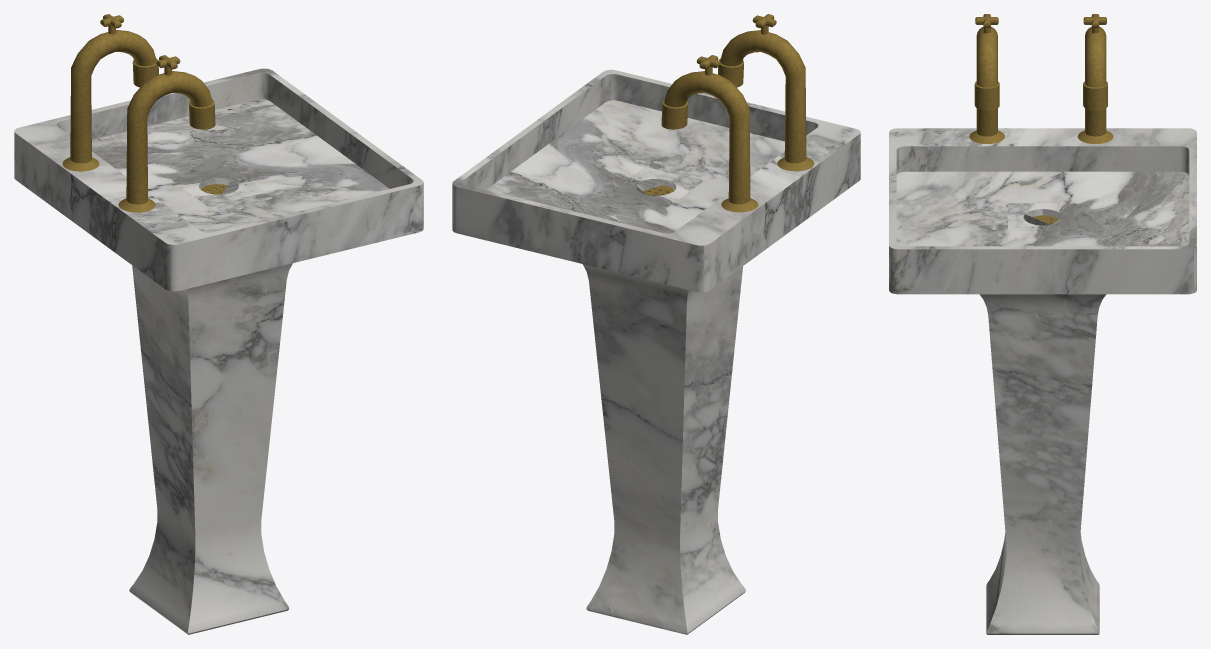
The model's file is Pica baño.fbx.
3 views of the same model, side by side, from view 1: azimuth 30°, elevation 25°; view 2: azimuth 150°, elevation 25°; view 3: azimuth 270°, elevation 25° (orthographic). The views are drawn at different scales.
Visible parts, largest first — view 1: Picia; view 2: Picia; view 3: Picia.
Part boxes in pixels (bbox=[...]): Picia: bbox=[14, 14, 423, 634]; Picia: bbox=[452, 14, 860, 634]; Picia: bbox=[889, 14, 1196, 634].
Size of the model in its own units: 59.13 by 128 by 63.59.
